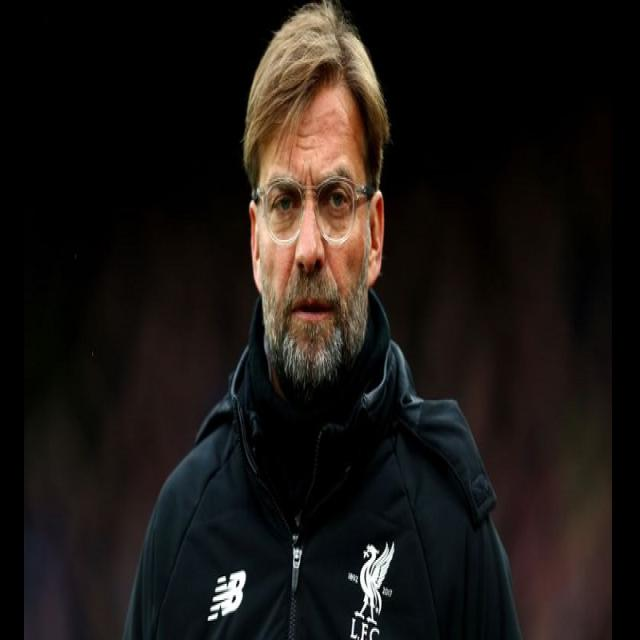human: (120, 1, 535, 640)
